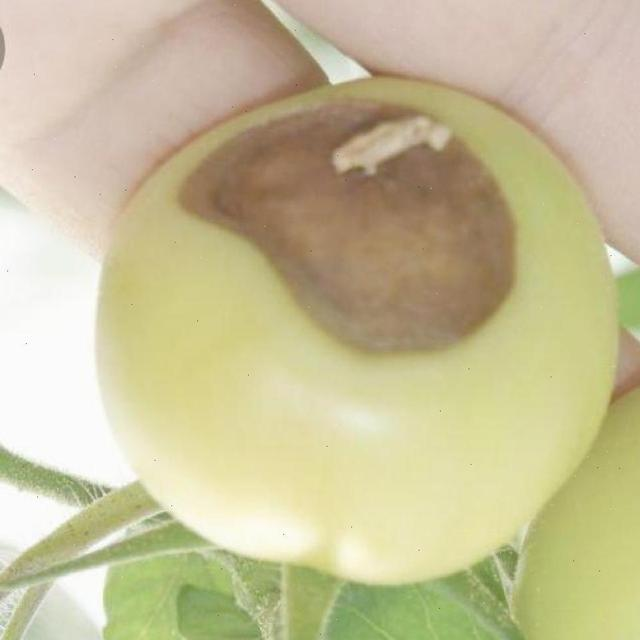Blossom End Rot Fruit: (114, 67, 347, 244)
